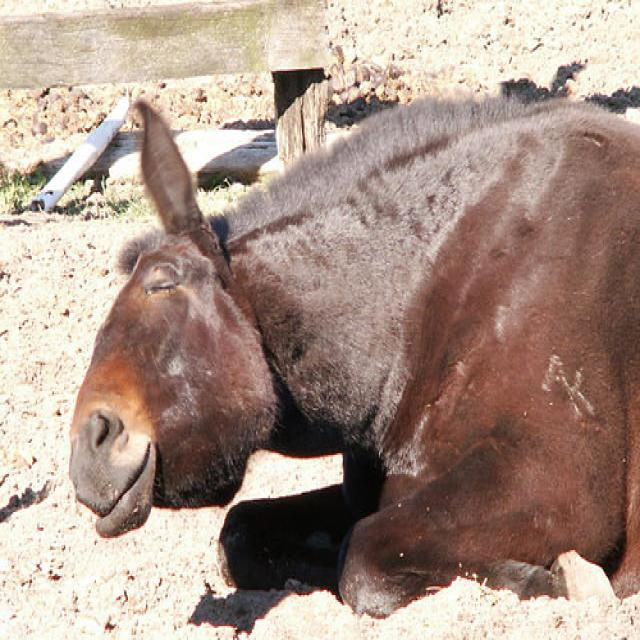horse: (69, 95, 640, 621)
